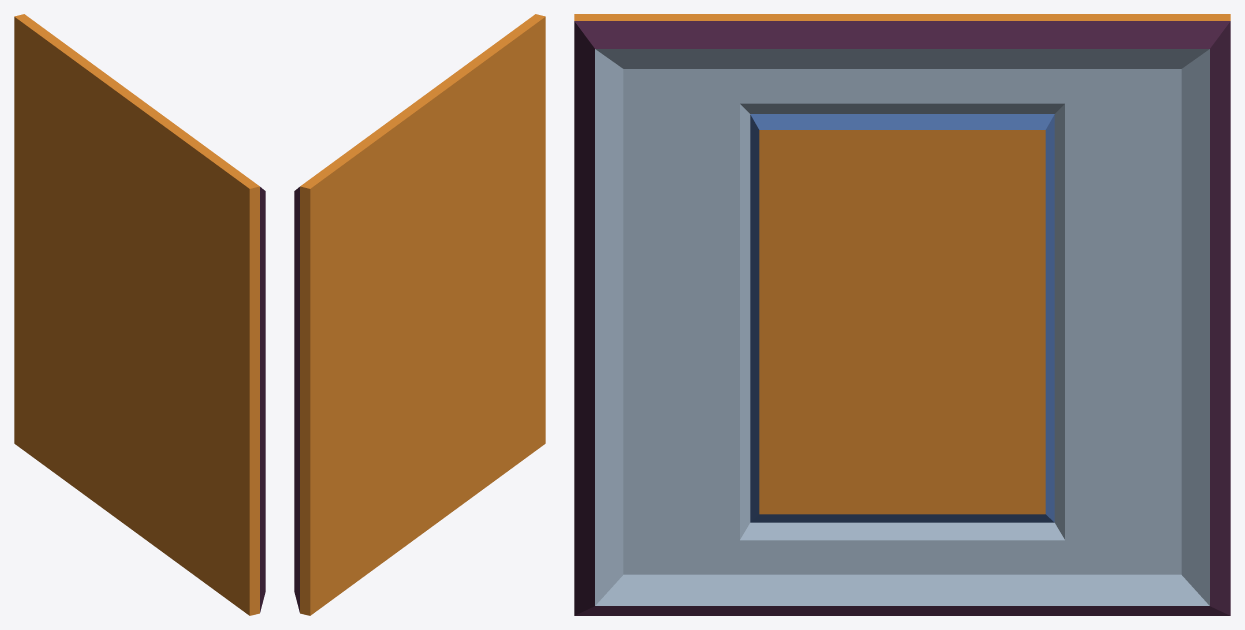
Rendered from wall3.glb.
3 renders of one model, left to right at view 1: azimuth 30°, elevation 25°; view 2: azimuth 150°, elevation 25°; view 3: azimuth 270°, elevation 25°, orthographic. The views are drawn at different scales.
Parts seen in each view (by area): view 1: wall2; view 2: wall2; view 3: wall2.
Part boxes in pixels (<box>): wall2: <box>14,14,265,615</box>; wall2: <box>294,14,545,615</box>; wall2: <box>574,14,1230,615</box>.
Bounding box in the file's own units: 0.231 × 4 × 4.
